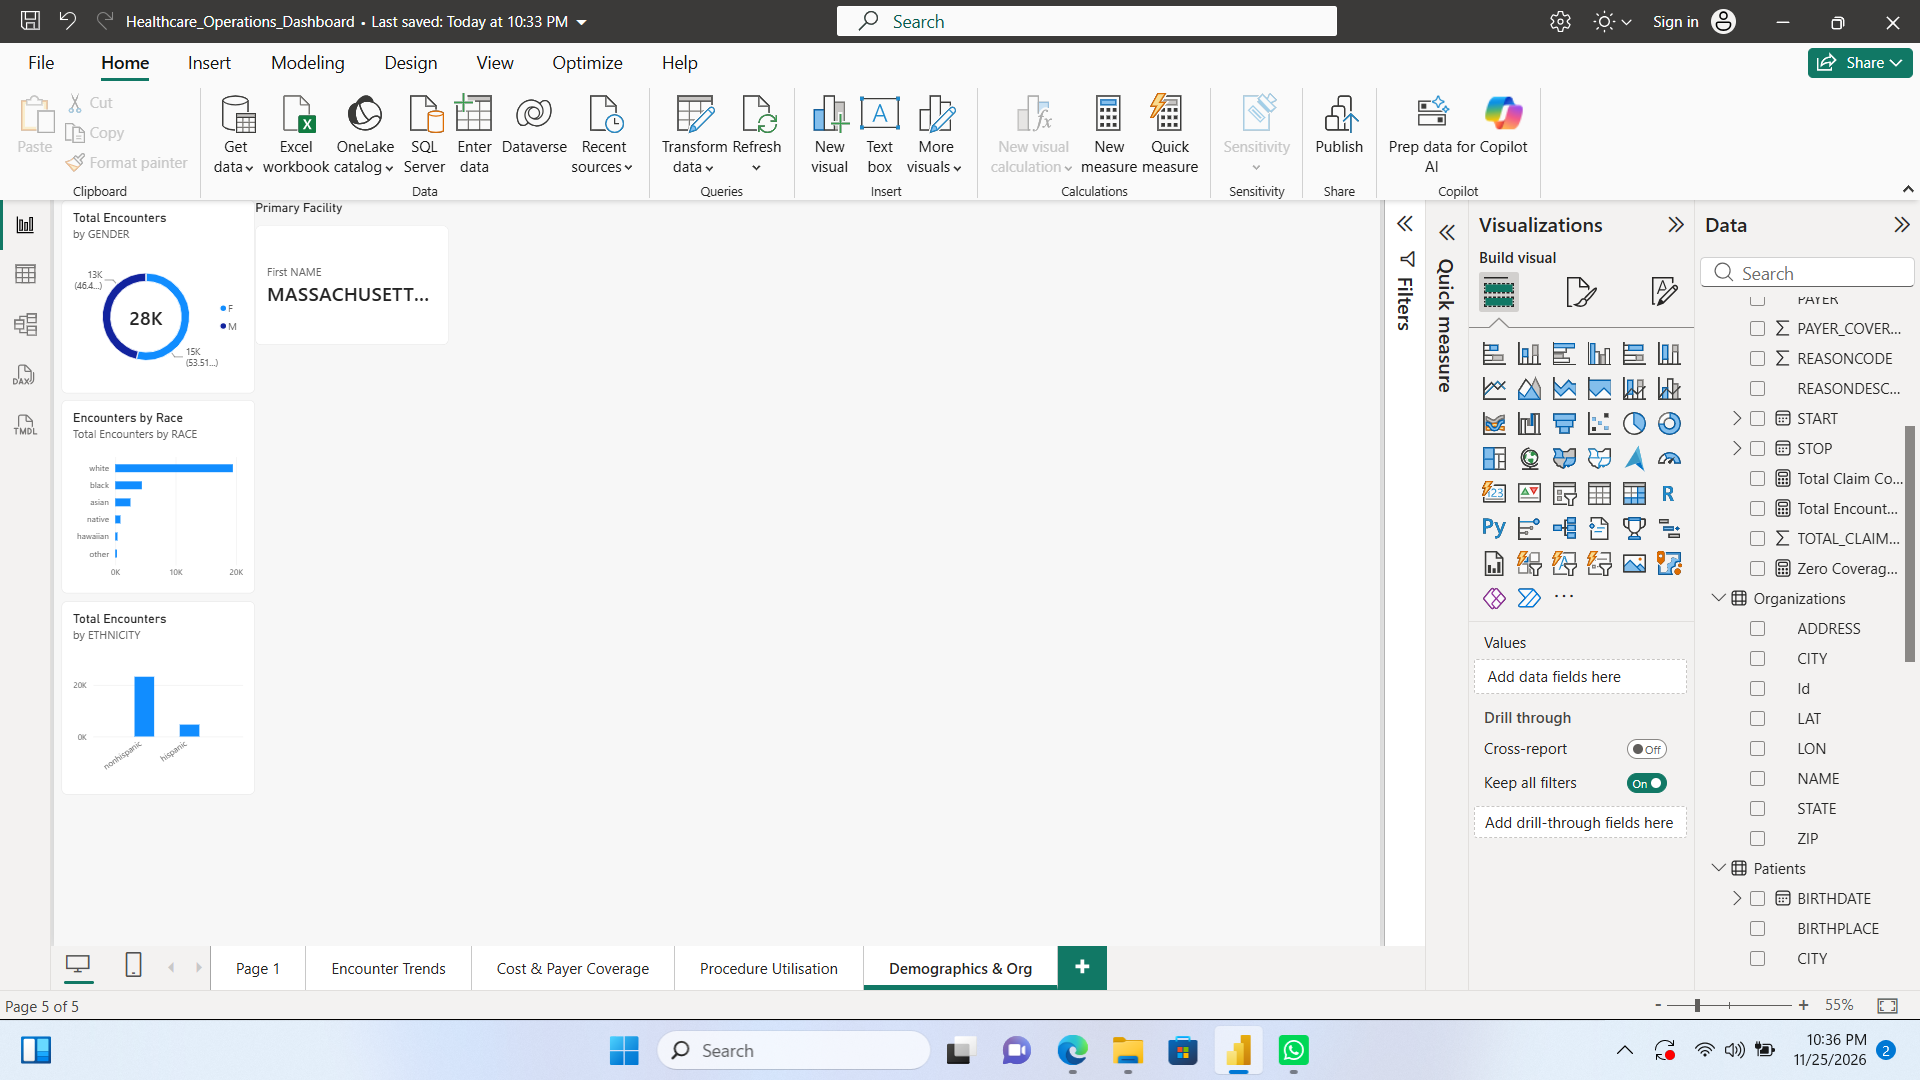

The dashboard page shown, as its layout file describes it:
{"tool":"powerbi","page":{"name":"Demographics & Org","canvas":[1920,1080],"ordinal":4},"visuals":[{"type":"donutChart","fields":{"Category":["Patients.GENDER"],"Y":["Encounters.Total Encounters"]},"box":[10,0,280,280],"z":0},{"type":"clusteredBarChart","title":"Encounters by Race","fields":{"Category":["Patients.RACE"],"Y":["Encounters.Total Encounters"]},"box":[10,290,280,280],"z":1},{"type":"clusteredColumnChart","fields":{"Category":["Patients.ETHNICITY"],"Y":["Encounters.Total Encounters"]},"box":[10,580,280,280],"z":2},{"type":"cardVisual","title":"Primary Facility","fields":{"Data":["Min(Organizations.NAME)"]},"box":[10,870,280,210],"z":3}]}

Visuals, with their boxes on the page's 1920x1080 design canvas (x1, y1, x2, y2). These are canvas units, not pixel positions in the 1920x1080 screenshot, which may show the page scaled, cropped or inside an application window:
donutChart - Patients.GENDER x Encounters.Total Encounters: rect(10, 0, 290, 280)
"Encounters by Race" clusteredBarChart: rect(10, 290, 290, 570)
clusteredColumnChart - Patients.ETHNICITY x Encounters.Total Encounters: rect(10, 580, 290, 860)
"Primary Facility" cardVisual: rect(10, 870, 290, 1080)
